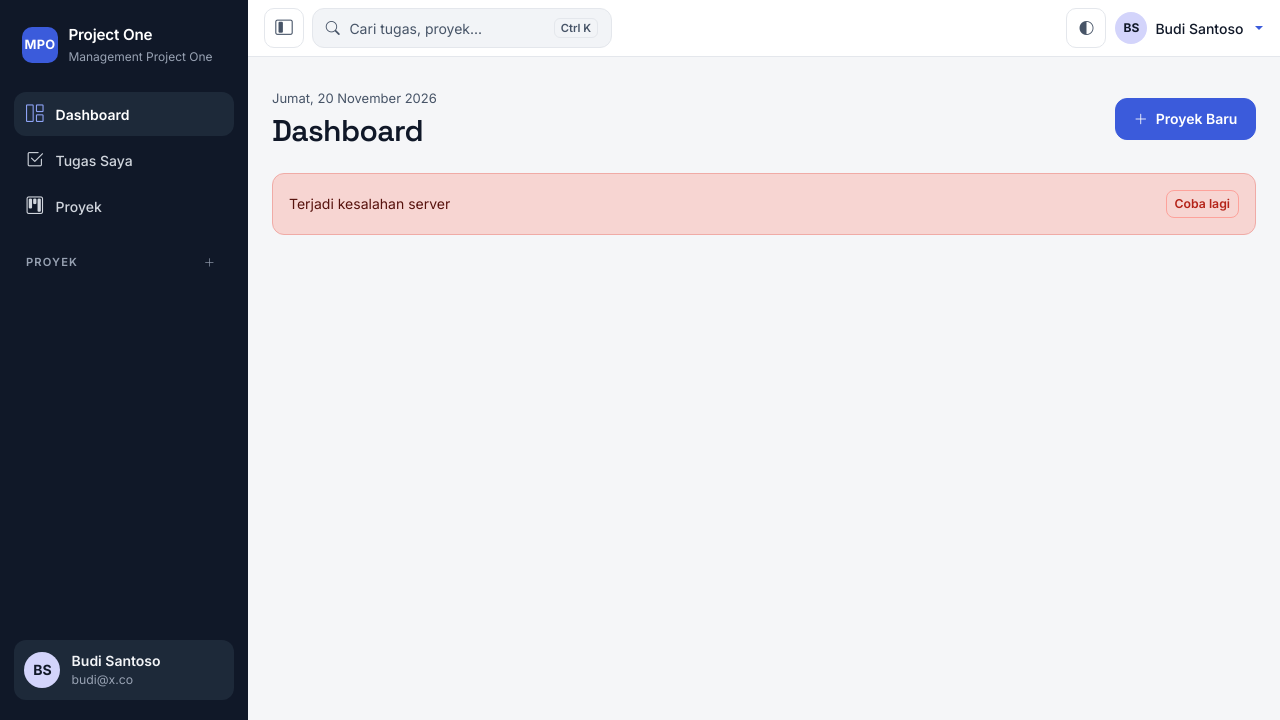
dashboard › gagal memuat: pesan error dengan tombol coba lagi yang memuat ulang
Expected: the message shows "Terjadi kesalahan server", [289, 195, 450, 212]
Step 1. Click the button "Coba lagi" → (1202, 204), box [1166, 190, 1239, 218]
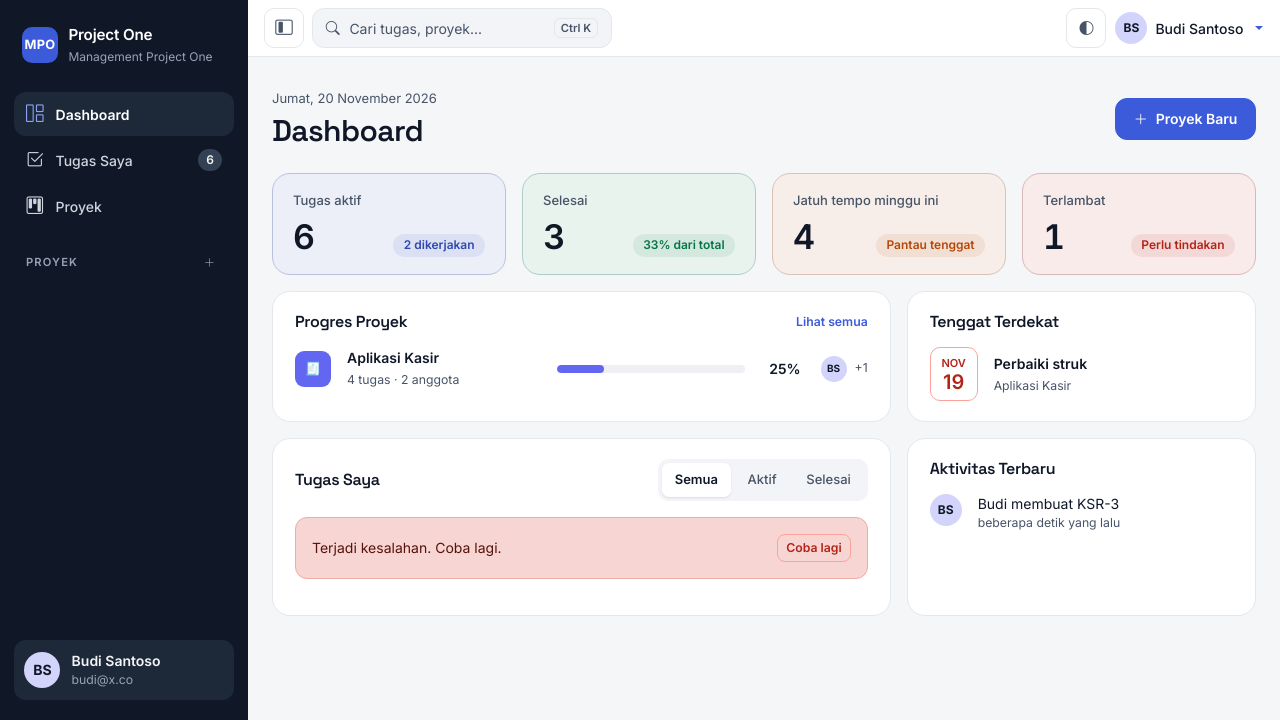
Now the element named "Statistik tugas saya" is shown, box [272, 172, 1256, 275]
